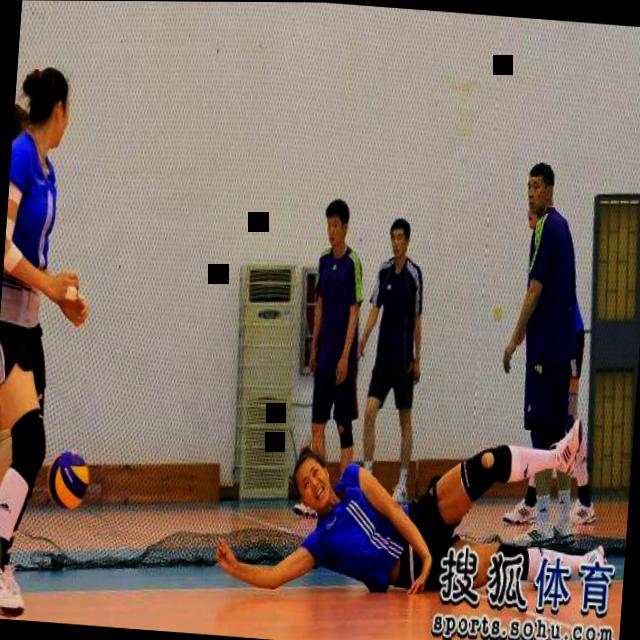Fall-Detected: (208, 377, 634, 630)
